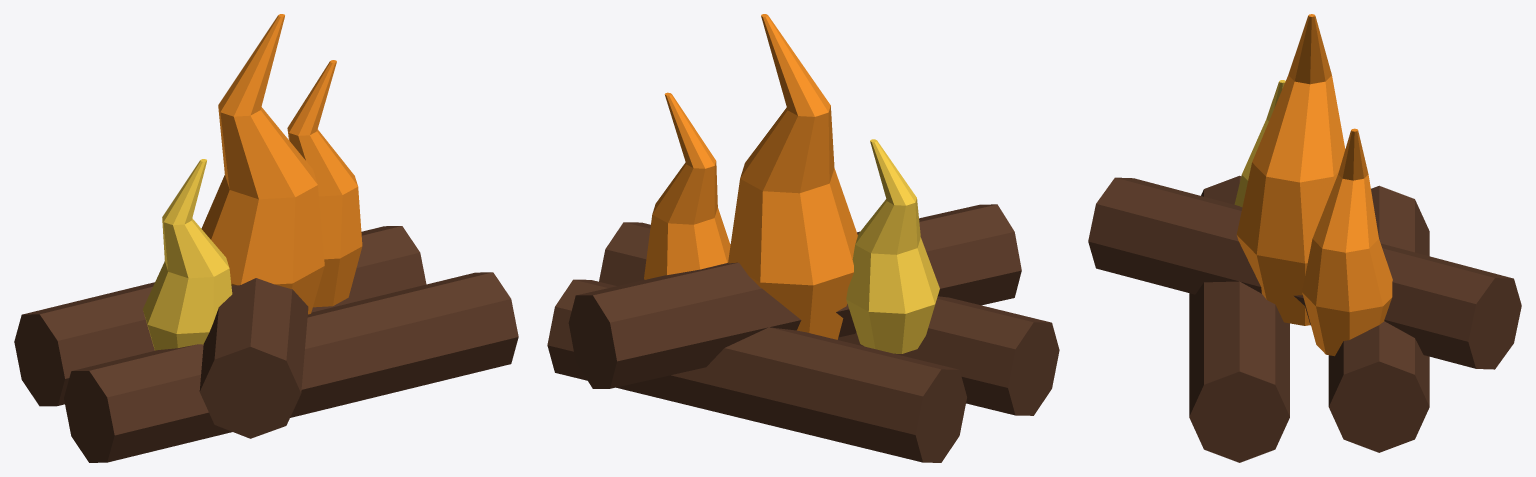
The model's file is NEW_RECOVERY_080_LOD2.glb.
The picture shows the model from 3 angles, left to right: view 1: azimuth 30°, elevation 25°; view 2: azimuth 150°, elevation 25°; view 3: azimuth 270°, elevation 25°; orthographic projection. The views are drawn at different scales.
Visible parts, largest first — view 1: Campfire_whole_static_prop; view 2: Campfire_whole_static_prop; view 3: Campfire_whole_static_prop.
Boxes of the visible parts, x1,y1,x2,y2 form: Campfire_whole_static_prop: [14, 14, 518, 462]; Campfire_whole_static_prop: [547, 14, 1059, 462]; Campfire_whole_static_prop: [1088, 14, 1521, 462].
Size of the model in its own units: 1.56 by 1.35 by 1.46.
